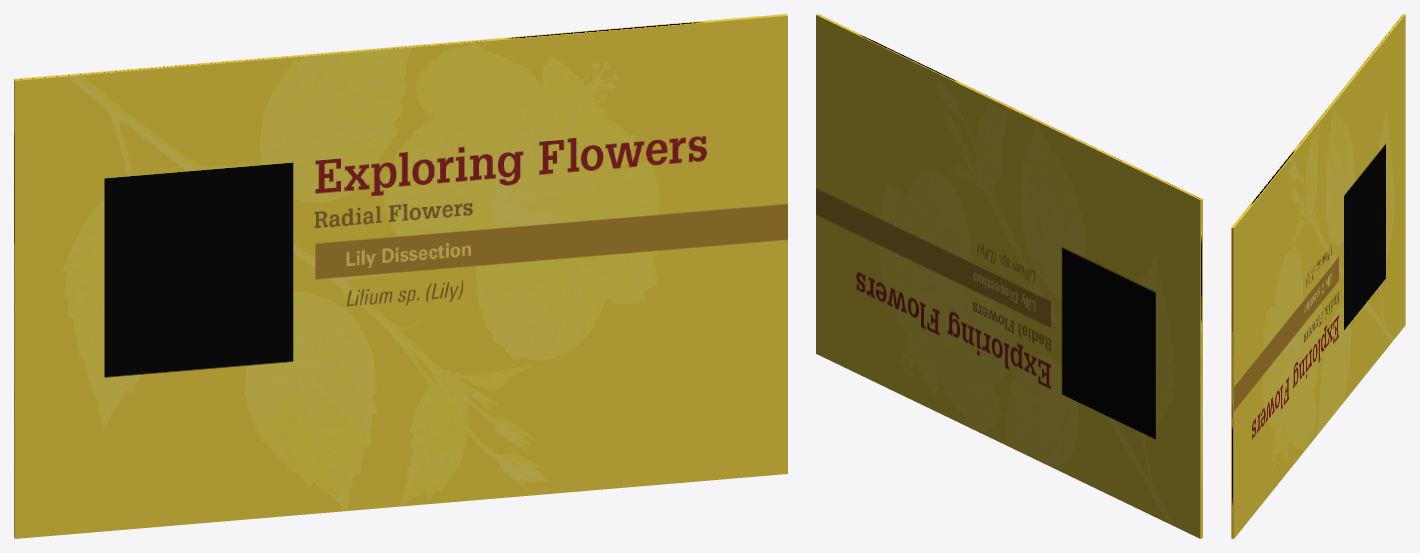
Rendered from LilySplashModel_exterior.gltf.
3 renders of one model, left to right at view 1: azimuth 30°, elevation 25°; view 2: azimuth 150°, elevation 25°; view 3: azimuth 270°, elevation 25°, orthographic. The views are drawn at different scales.
Parts seen in each view (by area): view 1: splashscreenglb; view 2: splashscreenglb; view 3: splashscreenglb.
Part boxes in pixels (x1,y1,x2,y2): splashscreenglb: (14, 14, 787, 538); splashscreenglb: (816, 14, 1202, 538); splashscreenglb: (1231, 14, 1405, 538).
Size of the model in its own units: 1.48 by 1 by 0.5094.
Materials: 1 (1 with a texture image).
